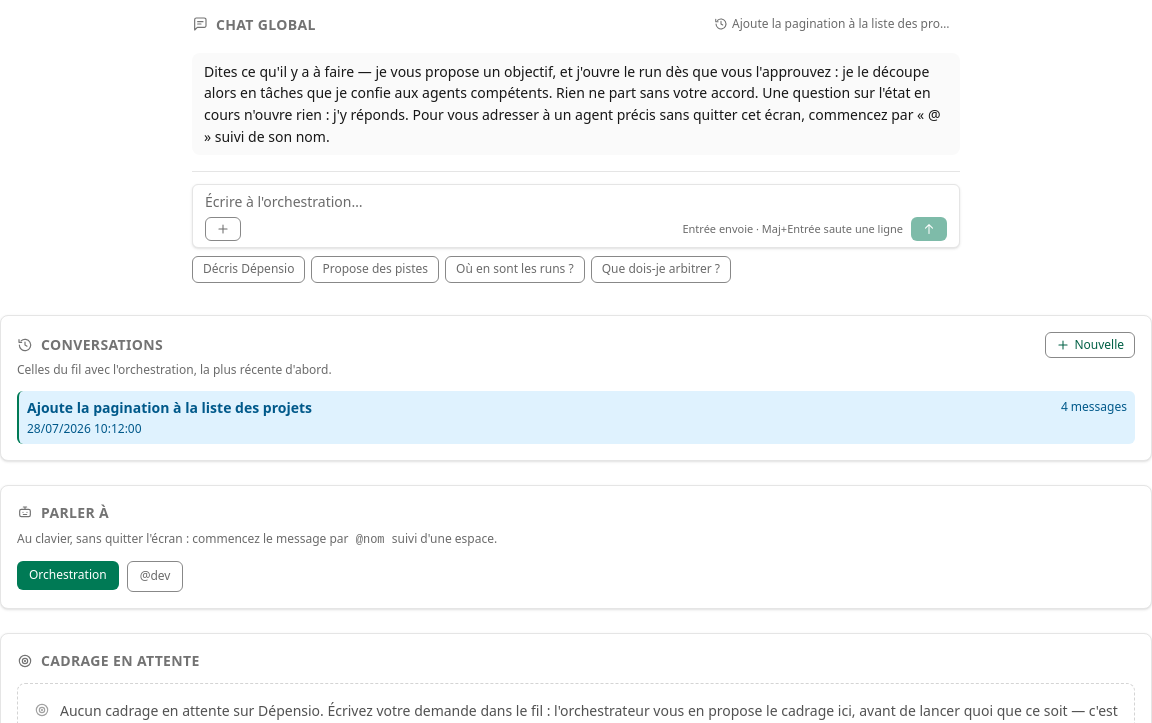
Test case: le projet de la fenêtre › suit le destinataire quand la mention change de fil
Type "@dev " into the text box with placeholder "Écrire à l'orchestration…".
click(576, 202); type("@dev ")  # box [205, 191, 947, 213]
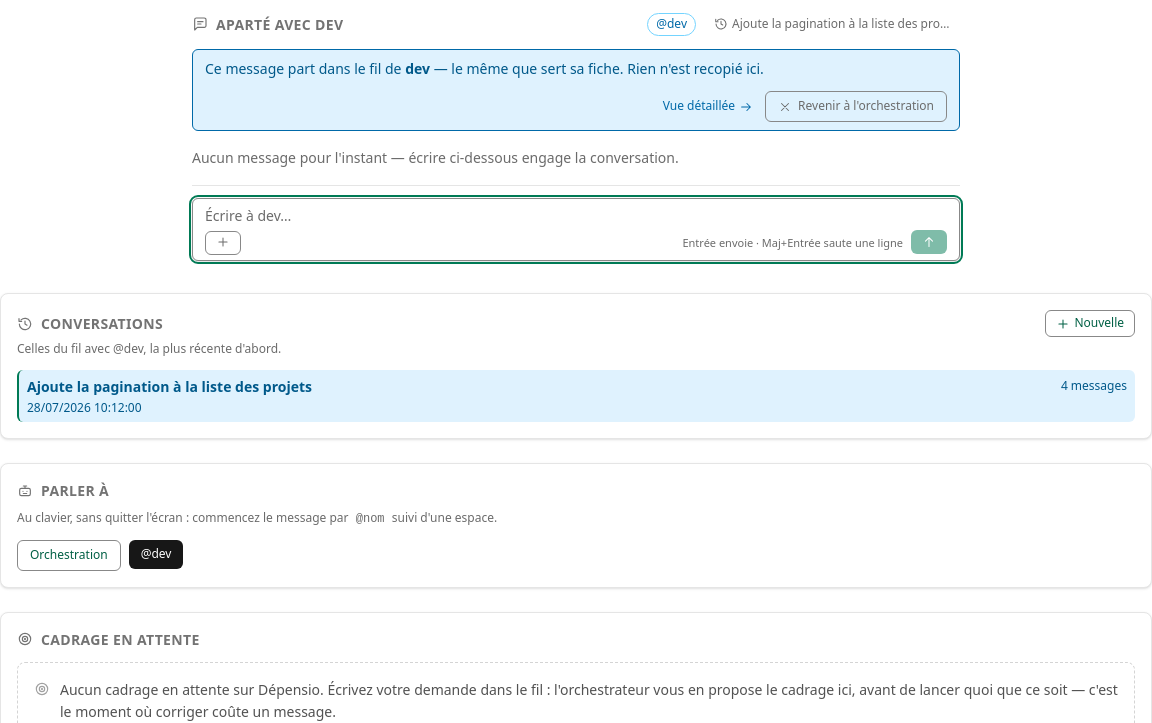
Now the text "dev" is shown, box [405, 59, 430, 78]
